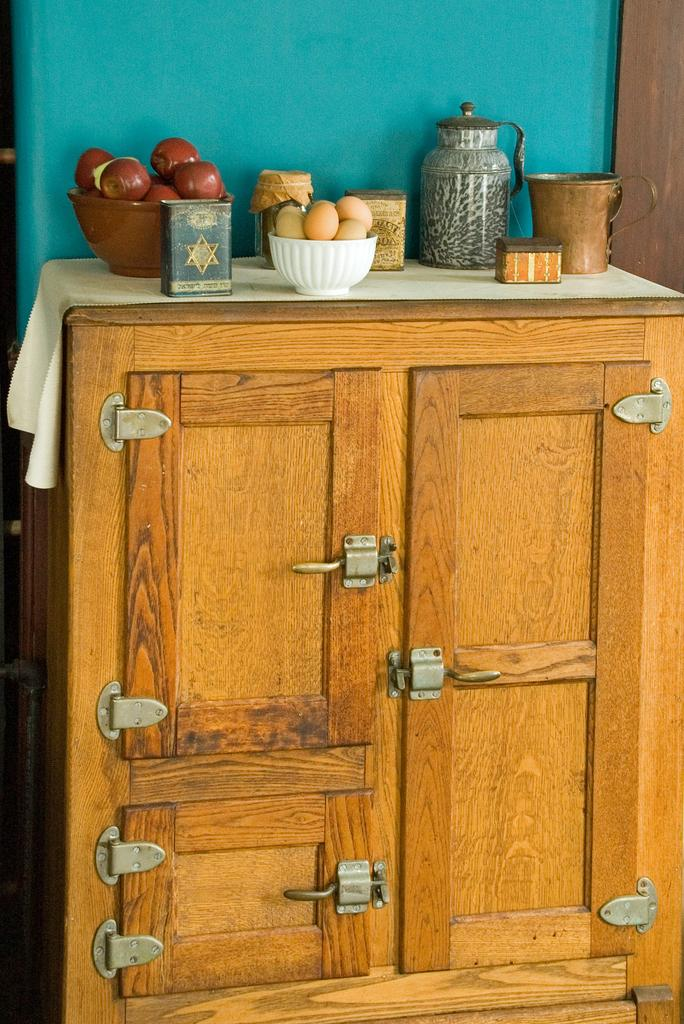cabinet_door: (408, 377, 636, 936), (130, 374, 366, 738), (130, 808, 372, 978)
handle: (294, 525, 390, 593), (408, 640, 500, 705), (286, 868, 382, 914)
